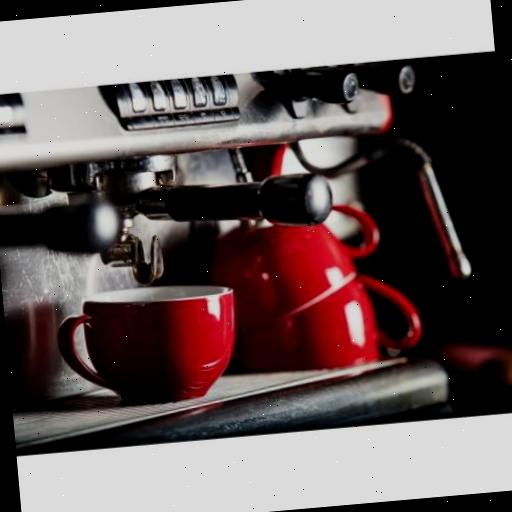cup: (52, 280, 244, 414), (204, 201, 386, 336), (231, 270, 425, 376)
